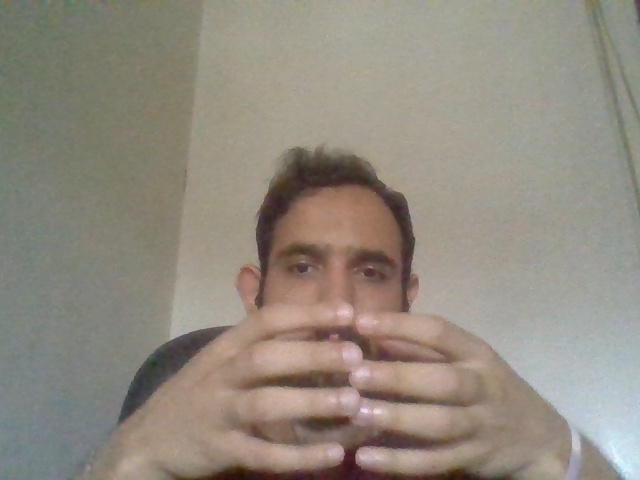Story: (156, 287, 543, 480)
